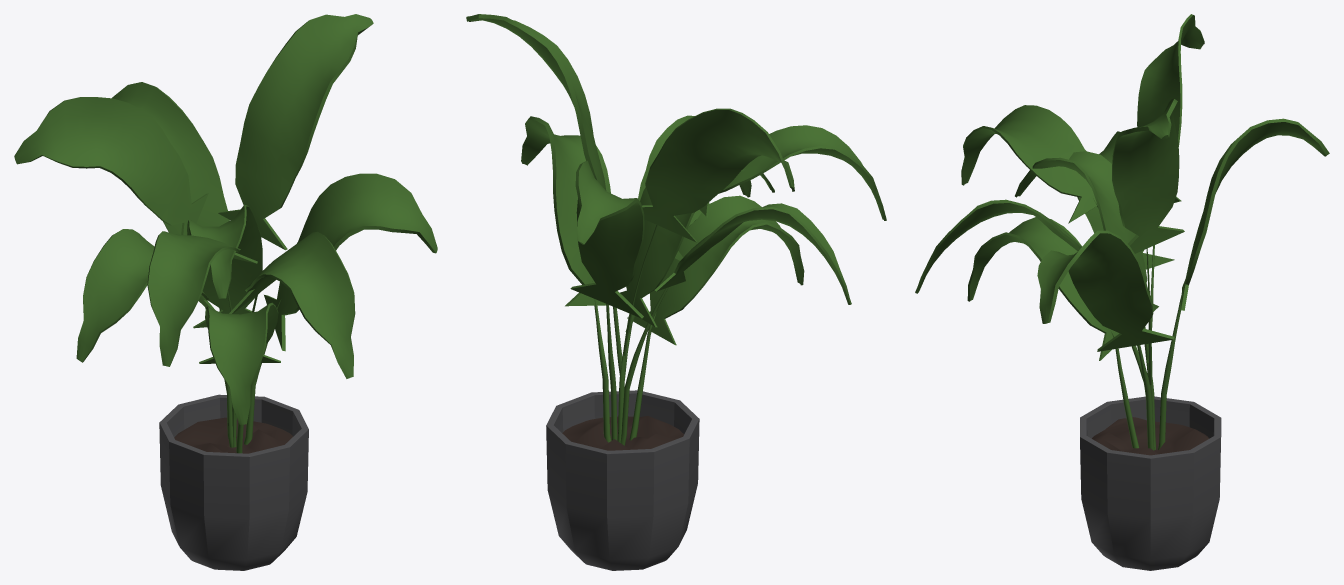
File: plant.fbx
3 renders of one model, left to right at view 1: azimuth 30°, elevation 25°; view 2: azimuth 150°, elevation 25°; view 3: azimuth 270°, elevation 25°, orthographic. The views are drawn at different scales.
Visible parts, largest first — view 1: polySurface5, pCylinder1, pDisc1; view 2: polySurface5, pCylinder1, pDisc1; view 3: polySurface5, pCylinder1, pDisc1.
Boxes of the visible parts, x1=… form: polySurface5: x1=14, y1=14, x2=437, y2=453; pCylinder1: x1=159, y1=394, x2=308, y2=570; pDisc1: x1=174, y1=417, x2=292, y2=453; polySurface5: x1=466, y1=14, x2=886, y2=445; pCylinder1: x1=546, y1=390, x2=699, y2=570; pDisc1: x1=562, y1=416, x2=683, y2=450; polySurface5: x1=915, y1=14, x2=1329, y2=450; pCylinder1: x1=1080, y1=396, x2=1221, y2=570; pDisc1: x1=1092, y1=417, x2=1209, y2=455.
Size of the model in its own units: 5.56 by 7.81 by 5.88.
